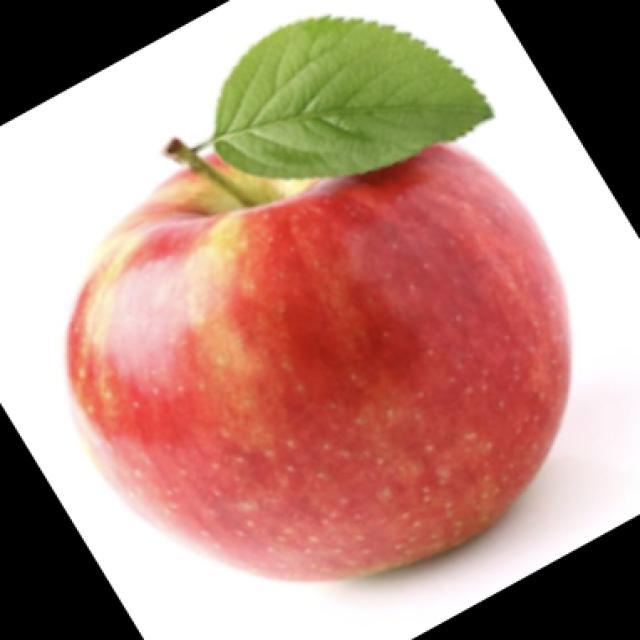Fresh Apple: (85, 117, 570, 560)
